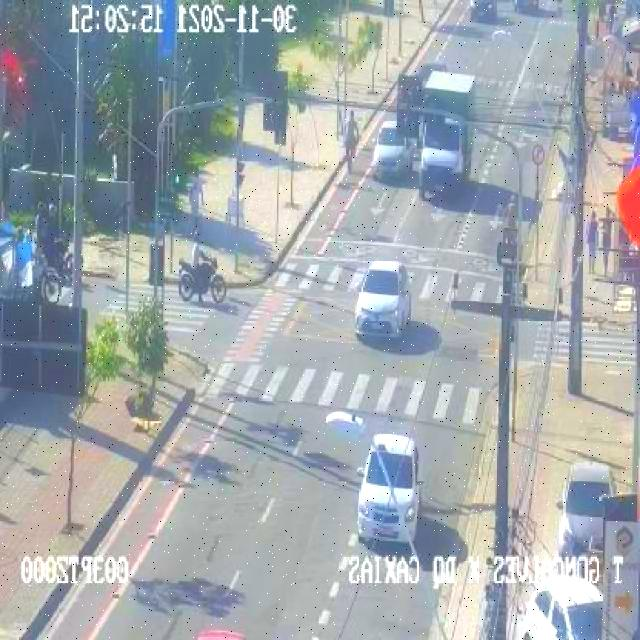Car: (335, 417, 433, 560), (512, 560, 615, 640), (548, 454, 625, 554), (346, 255, 426, 343), (371, 103, 415, 187)
Cycle: (5, 223, 74, 304), (168, 230, 233, 310), (22, 208, 88, 283)
Truck: (410, 65, 490, 195)
